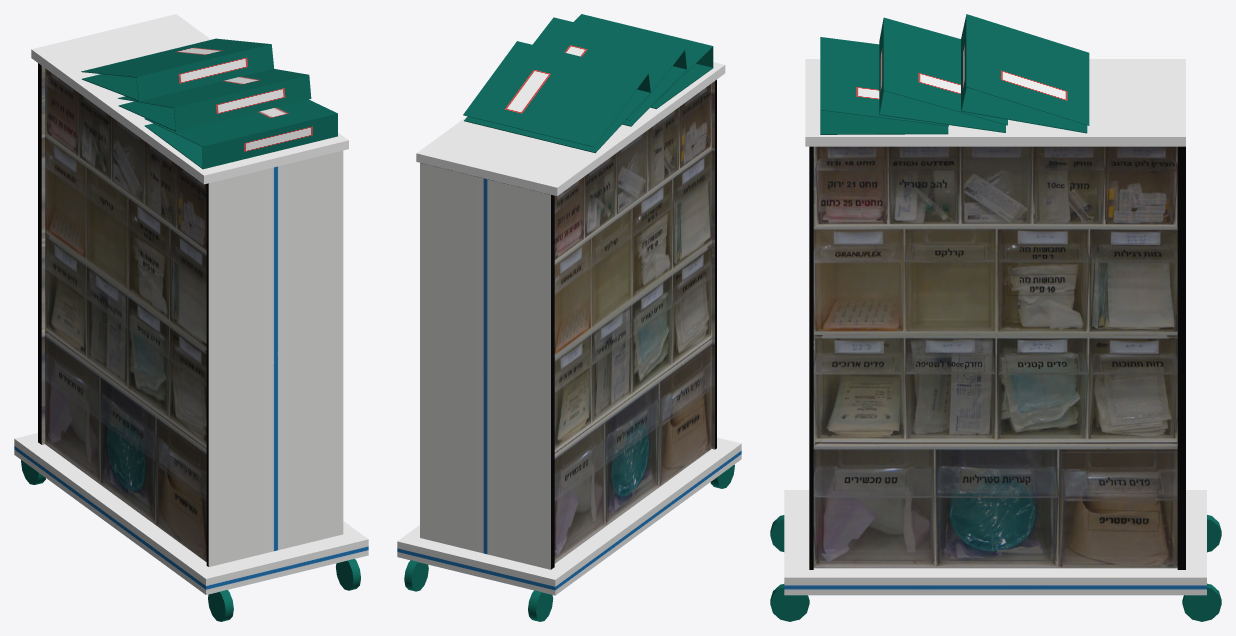
File: MedicineCart01.FBX
The picture shows the model from 3 angles, left to right: view 1: azimuth 30°, elevation 25°; view 2: azimuth 150°, elevation 25°; view 3: azimuth 270°, elevation 25°; orthographic projection. The views are drawn at different scales.
Parts seen in each view (by area): view 1: Medicine Drawer; view 2: Medicine Drawer; view 3: Medicine Drawer.
Part boxes in pixels (bbox=[...]): Medicine Drawer: bbox=[14, 14, 368, 621]; Medicine Drawer: bbox=[397, 14, 741, 621]; Medicine Drawer: bbox=[770, 14, 1221, 621].
Size of the model in its own units: 0.4837 by 1.38 by 1.05.
5 materials, 5 textured.
